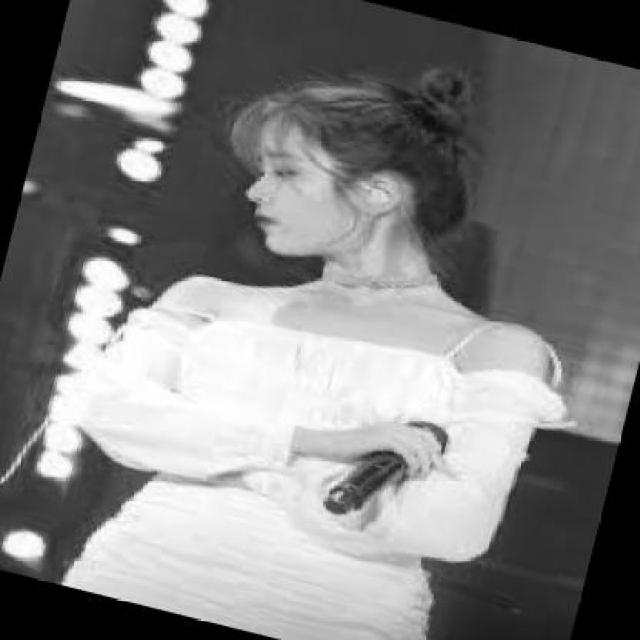earphone: (360, 178, 394, 218)
